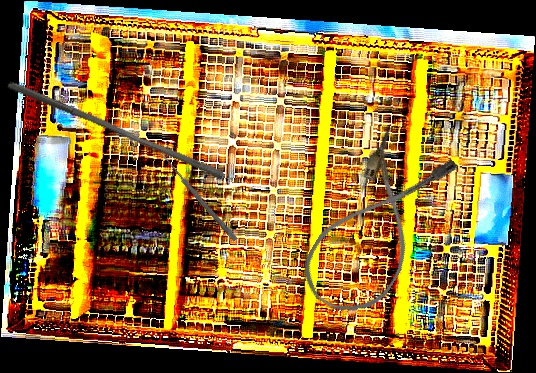Cannula: (290, 121, 464, 329)
Pusher: (2, 79, 229, 181)
Surgical Spoon: (157, 150, 239, 242)
